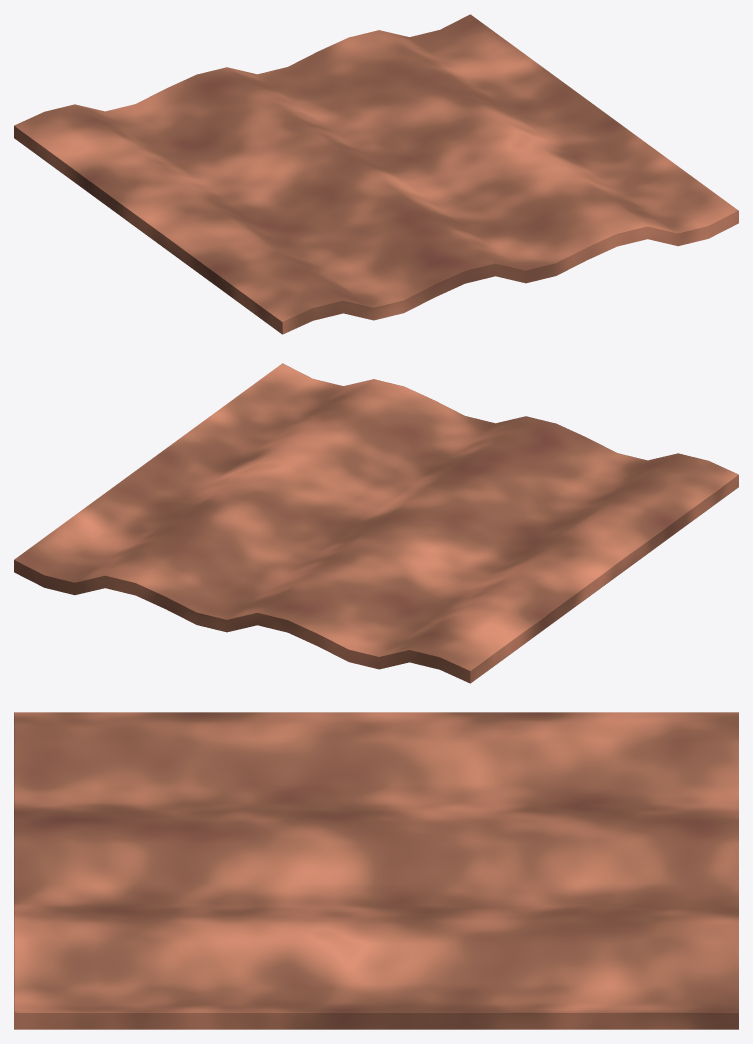
The model's file is Chapa.fbx.
The picture shows the model from 3 angles, top to bottom: view 1: azimuth 30°, elevation 25°; view 2: azimuth 150°, elevation 25°; view 3: azimuth 270°, elevation 25°; orthographic projection. The views are drawn at different scales.
Parts seen in each view (by area): view 1: Chapa; view 2: Chapa; view 3: Chapa.
Boxes of the visible parts, bbox=[...] form: Chapa: bbox=[14, 14, 738, 334]; Chapa: bbox=[14, 363, 738, 683]; Chapa: bbox=[14, 712, 738, 1029].
Bounding box in the file's own units: 196 × 11.11 × 200.
